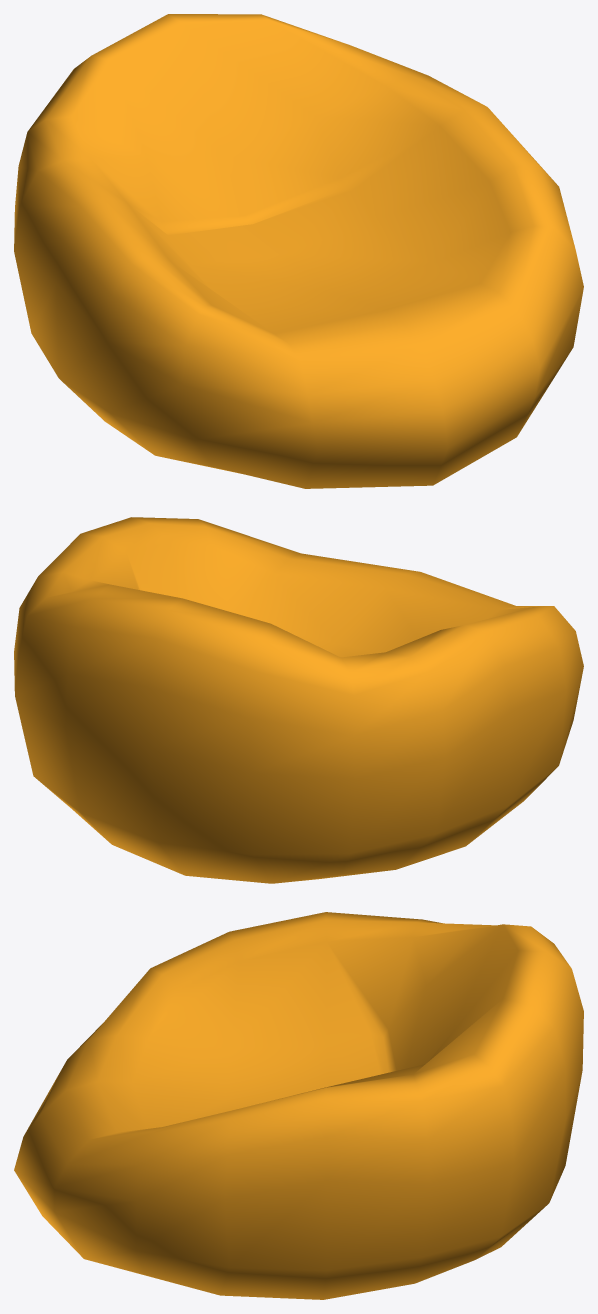
Rendered from Mixed_BeanBag_02.fbx.
3 renders of one model, top to bottom at view 1: azimuth 30°, elevation 25°; view 2: azimuth 150°, elevation 25°; view 3: azimuth 270°, elevation 25°, orthographic. The views are drawn at different scales.
Visible parts, largest first — view 1: Mixed_BeanBag_02; view 2: Mixed_BeanBag_02; view 3: Mixed_BeanBag_02.
Part boxes in pixels (bbox=[...]): Mixed_BeanBag_02: bbox=[14, 14, 583, 488]; Mixed_BeanBag_02: bbox=[14, 517, 583, 883]; Mixed_BeanBag_02: bbox=[14, 912, 583, 1299].
Size of the model in its own units: 184 by 120 by 208.
